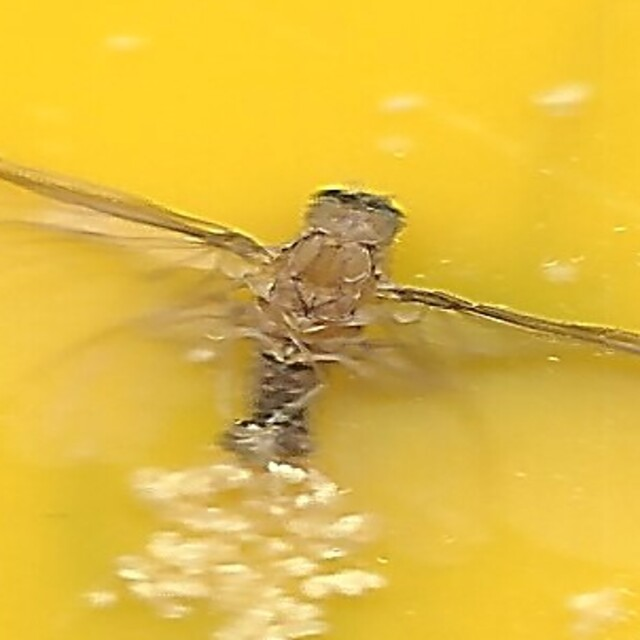Ephemeroptera: (212, 164, 428, 476)
